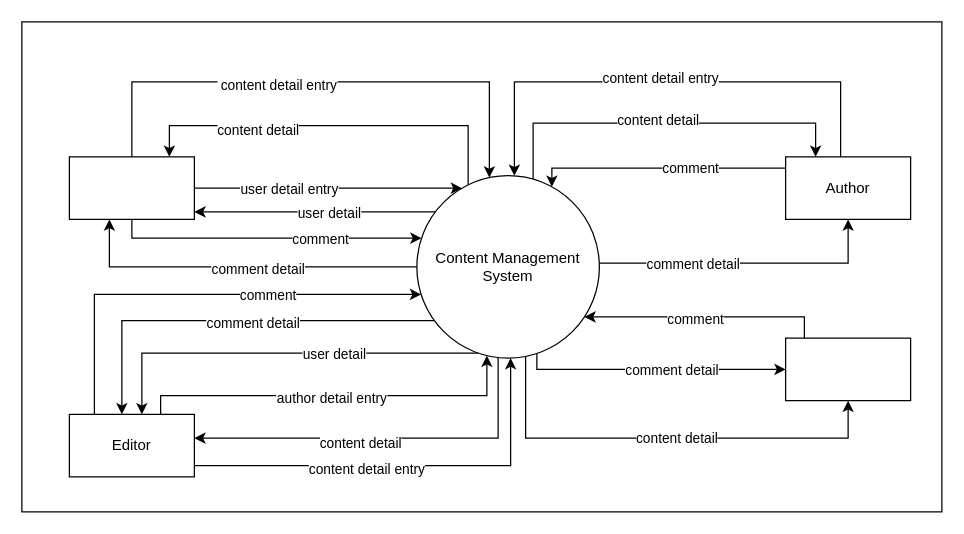
Some shapes in this 964 by 534 pixel diagram are drawn without their labels. Each missing label, with the centre of its shape:
"Admin" belongs at point 131,187.
"Viewer" belongs at point 847,369.
